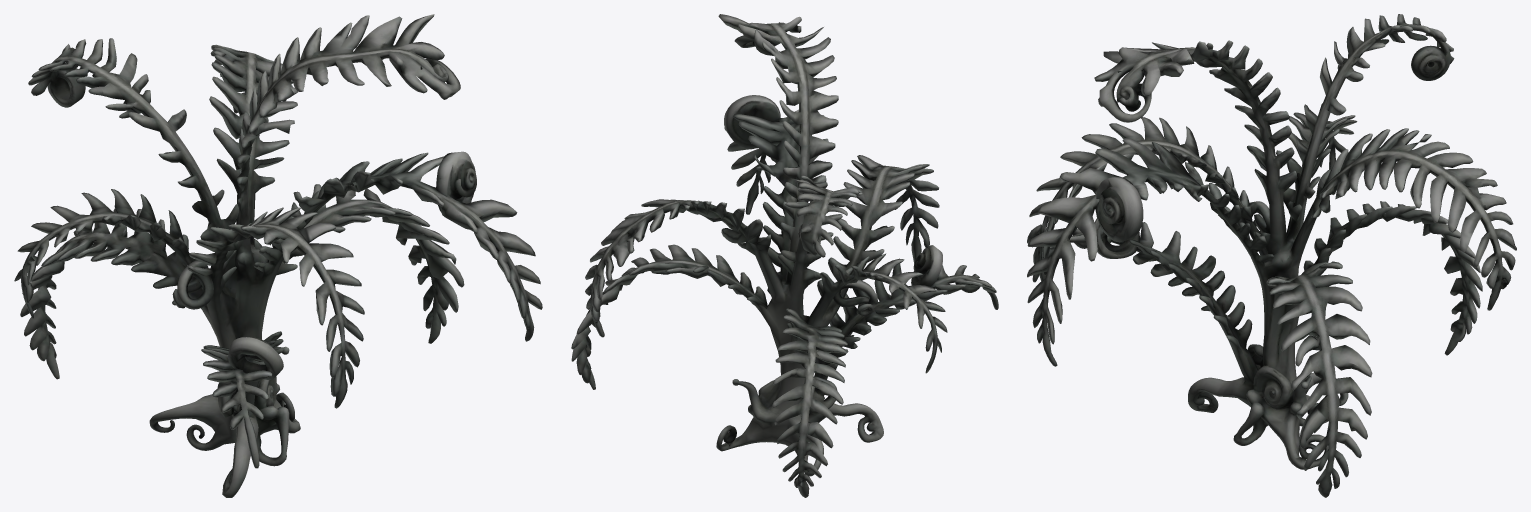
The model's file is spiral-fern.glb.
3 renders of one model, left to right at view 1: azimuth 30°, elevation 25°; view 2: azimuth 150°, elevation 25°; view 3: azimuth 270°, elevation 25°, orthographic. The views are drawn at different scales.
Parts seen in each view (by area): view 1: tripo_node_979f59dd-03a0-47d4-8fc1-81a7770ea76d; view 2: tripo_node_979f59dd-03a0-47d4-8fc1-81a7770ea76d; view 3: tripo_node_979f59dd-03a0-47d4-8fc1-81a7770ea76d.
Boxes of the visible parts, left/top/right/bottom form: tripo_node_979f59dd-03a0-47d4-8fc1-81a7770ea76d: left=14, top=14, right=542, bottom=497; tripo_node_979f59dd-03a0-47d4-8fc1-81a7770ea76d: left=571, top=14, right=998, bottom=497; tripo_node_979f59dd-03a0-47d4-8fc1-81a7770ea76d: left=1027, top=14, right=1516, bottom=497.
Bounding box in the file's own units: 0.9888 × 0.9868 × 0.9995.
1 material, 1 textured.
